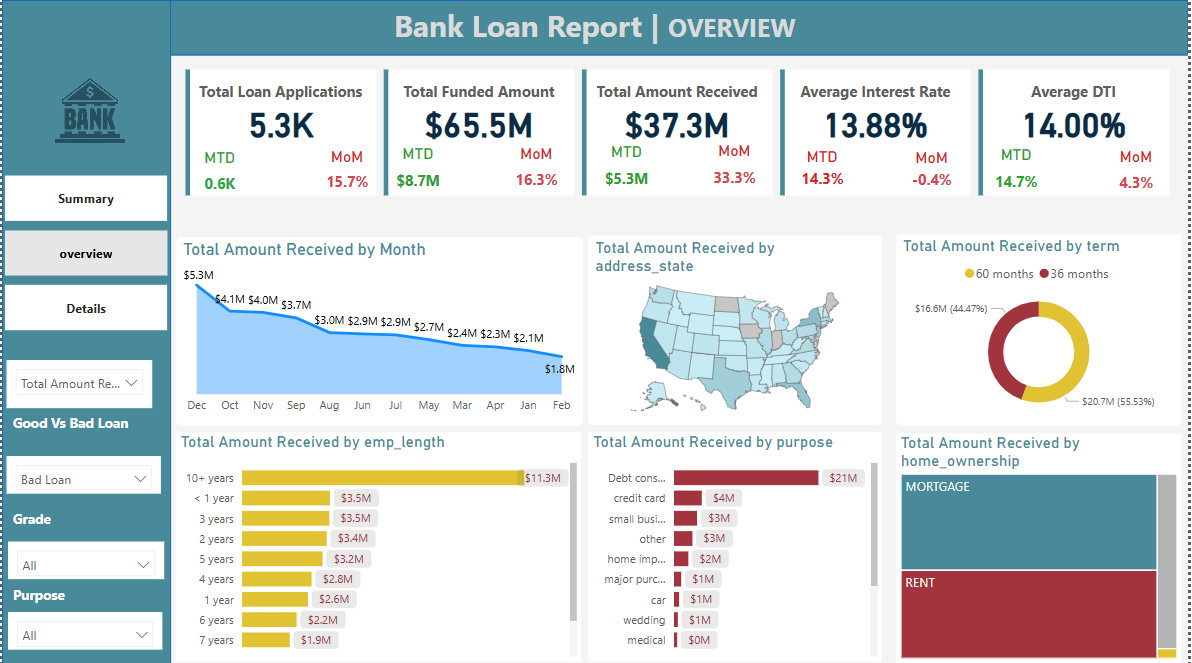

The dashboard page shown, as its layout file describes it:
{"tool":"powerbi","page":{"name":"overview","canvas":[1280,720],"ordinal":1},"visuals":[{"type":"shape","box":[0,0,1280.8,59.9],"z":0},{"type":"card","title":"MoM","fields":{"Values":["MoM Measure.MoM Amount Received"]},"box":[750.4,153,81.7,62.9],"z":0,"group":"g3"},{"type":"card","title":"MoM","fields":{"Values":["MoM Measure.MoM Funded Amount"]},"box":[536.6,155.1,81.7,60.8],"z":0,"group":"g2"},{"type":"card","title":"MTD","fields":{"Values":["MTD Measure.MTD Average DTI"]},"box":[1054.3,157.2,81,61.5],"z":0,"group":"g5"},{"type":"card","title":"MTD","fields":{"Values":["MTD Measure.MTD Average Interest Rate"]},"box":[846.8,159.5,77.1,52.1],"z":0,"group":"g4"},{"type":"card","title":"MTD","fields":{"Values":["MTD Measure.MTD Loan Applications"]},"box":[194.9,160.8,81.1,60.1],"z":0,"group":"g1"},{"type":"shape","box":[0,0,182.6,720.9],"z":1000},{"type":"card","title":"MTD","fields":{"Values":["MTD Measure.MTD Funded Amount"]},"box":[408.7,155.1,81.7,62.9],"z":1000,"group":"g2"},{"type":"card","title":"MTD","fields":{"Values":["MTD Measure.MTD Amount Received"]},"box":[633,155.1,81.7,62.9],"z":1000,"group":"g3"},{"type":"card","title":"MoM","fields":{"Values":["MoM Measure.MoM Avg DTI"]},"box":[1183.8,158.8,81,61.5],"z":1000,"group":"g5"},{"type":"card","title":"MoM","fields":{"Values":["MoM Measure.MoM Loan Applications"]},"box":[332.3,159.3,81.2,59.5],"z":1000,"group":"g1"},{"type":"card","title":"MoM","fields":{"Values":["MoM Measure.MoM Avg Interest Rate"]},"box":[965.6,160.9,77.1,52.1],"z":1000,"group":"g4"},{"type":"textbox","box":[377.7,0,524.6,59.9],"z":2000},{"type":"image","box":[14,65.1,160.5,109.3],"z":3000},{"type":"slicer","fields":{"Values":["bank_loan_data.Good Vs Bad Loans"]},"box":[4.9,492.2,166.8,40.5],"z":4000},{"type":"textbox","box":[6.5,440.4,165.2,38.9],"z":5000},{"type":"slicer","fields":{"Values":["bank_loan_data.grade"]},"box":[6.5,584.5,168.4,40.5],"z":6000},{"type":"textbox","box":[6.5,544.1,168.4,40.5],"z":7000},{"type":"slicer","fields":{"Values":["bank_loan_data.purpose"]},"box":[6.5,660.6,166.8,40.5],"z":8000},{"type":"textbox","box":[6.5,626.6,176.5,34],"z":9000},{"type":"areaChart","fields":{"Y":["Measure.Total Amount Received"],"Category":["Date Table.Month"]},"box":[187.7,256.6,439.1,203.2],"z":10000},{"type":"slicer","fields":{"Values":["Select Measure.Select Measure"]},"box":[4.9,388.6,157.1,51.8],"z":11000},{"type":"shapeMap","fields":{"Value":["Measure.Total Amount Received"],"Category":["bank_loan_data.address_state"]},"box":[633.7,254.9,316.8,204.9],"z":12000},{"type":"donutChart","fields":{"Y":["Measure.Total Amount Received"],"Category":["bank_loan_data.term"]},"box":[964.3,253.1,308.2,206.6],"z":13000},{"type":"barChart","fields":{"Y":["Measure.Total Amount Received"],"Category":["bank_loan_data.emp_length"]},"box":[187.7,466.7,437.4,248],"z":14000},{"type":"barChart","fields":{"Y":["Measure.Total Amount Received"],"Category":["bank_loan_data.purpose"]},"box":[633.7,466.7,316.8,248],"z":15000},{"type":"treemap","fields":{"Values":["Measure.Total Amount Received"],"Group":["bank_loan_data.home_ownership"]},"box":[964.3,468.4,308.2,248],"z":16000},{"type":"pageNavigator","box":[2.9,189.9,175.4,169.6],"z":17000},{"type":"cardVisual","fields":{"Data":["Measure.Total Loan Applications","Measure.Total Funded Amount","Measure.Total Amount Received","Measure.Average Interest Rate","Measure.Average DTI"]},"box":[192.8,69.2,1073.2,146.7],"z":18000},{"type":"group","id":"g1","title":"total apps G","box":[194.9,159.3,218,60.8],"z":19000},{"type":"group","id":"g2","title":"funded amount G","box":[408.7,155.1,209.6,62.9],"z":20000},{"type":"group","id":"g3","title":"amount received G","box":[633,153,199.1,65],"z":21000},{"type":"group","id":"g4","title":"AVG interest rate G","box":[846.8,159.5,195.9,53.4],"z":22000},{"type":"group","id":"g5","title":"avg DTI G","box":[1054.3,157.2,209.6,62.9],"z":23000}]}

Visuals, with their boxes on the page's 1280x720 design canvas (x1, y1, x2, y2). These are canvas units, not pixel positions in the 1192x663 screenshot, which may show the page scaled, cropped or inside an application window:
shape: region(0, 0, 1281, 60)
"MoM" card: region(750, 153, 832, 216)
"MoM" card: region(537, 155, 618, 216)
"MTD" card: region(1054, 157, 1135, 219)
"MTD" card: region(847, 160, 924, 212)
"MTD" card: region(195, 161, 276, 221)
shape: region(0, 0, 183, 721)
"MTD" card: region(409, 155, 490, 218)
"MTD" card: region(633, 155, 715, 218)
"MoM" card: region(1184, 159, 1265, 220)
"MoM" card: region(332, 159, 414, 219)
"MoM" card: region(966, 161, 1043, 213)
textbox: region(378, 0, 902, 60)
image: region(14, 65, 174, 174)
slicer - bank_loan_data.Good Vs Bad Loans: region(5, 492, 172, 533)
textbox: region(6, 440, 172, 479)
slicer - bank_loan_data.grade: region(6, 584, 175, 625)
textbox: region(6, 544, 175, 585)
slicer - bank_loan_data.purpose: region(6, 661, 173, 701)
textbox: region(6, 627, 183, 661)
areaChart - Measure.Total Amount Received x Date Table.Month: region(188, 257, 627, 460)
slicer - Select Measure.Select Measure: region(5, 389, 162, 440)
shapeMap - Measure.Total Amount Received x bank_loan_data.address_state: region(634, 255, 950, 460)
donutChart - Measure.Total Amount Received x bank_loan_data.term: region(964, 253, 1272, 460)
barChart - Measure.Total Amount Received x bank_loan_data.emp_length: region(188, 467, 625, 715)
barChart - Measure.Total Amount Received x bank_loan_data.purpose: region(634, 467, 950, 715)
treemap - Measure.Total Amount Received x bank_loan_data.home_ownership: region(964, 468, 1272, 716)
pageNavigator: region(3, 190, 178, 360)
cardVisual - Measure.Total Loan Applications x Measure.Total Funded Amount: region(193, 69, 1266, 216)
"total apps G" group: region(195, 159, 413, 220)
"funded amount G" group: region(409, 155, 618, 218)
"amount received G" group: region(633, 153, 832, 218)
"AVG interest rate G" group: region(847, 160, 1043, 213)
"avg DTI G" group: region(1054, 157, 1264, 220)
